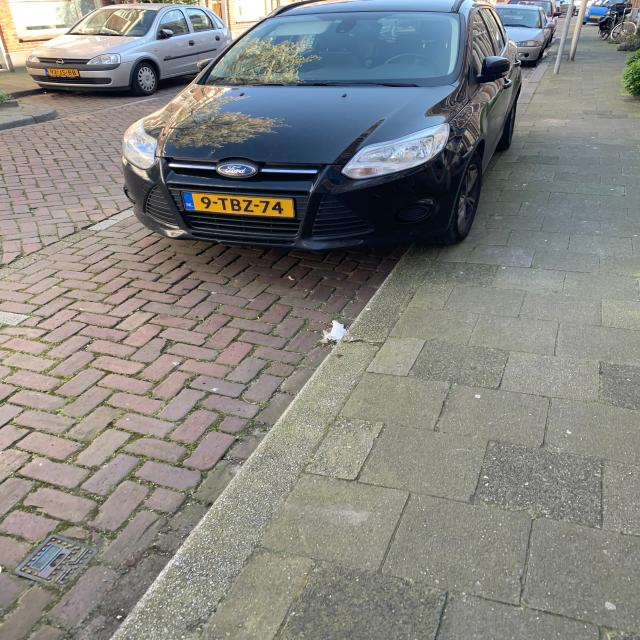plate: (180, 190, 296, 218)
